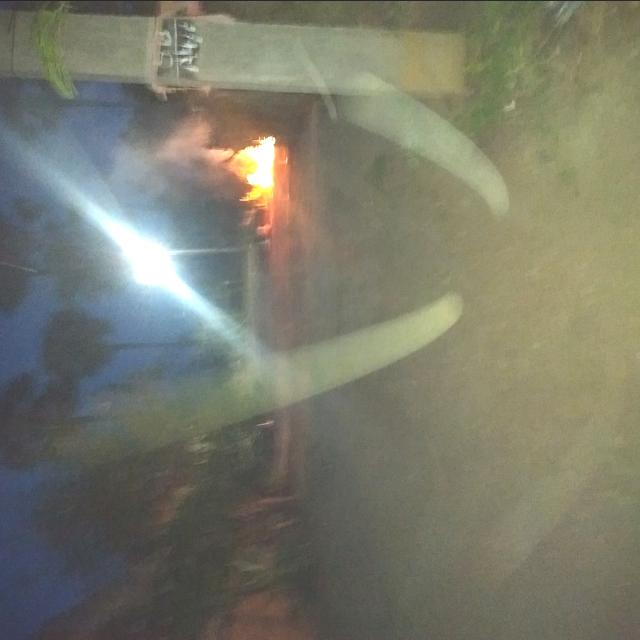firerotation: (195, 134, 277, 203)
